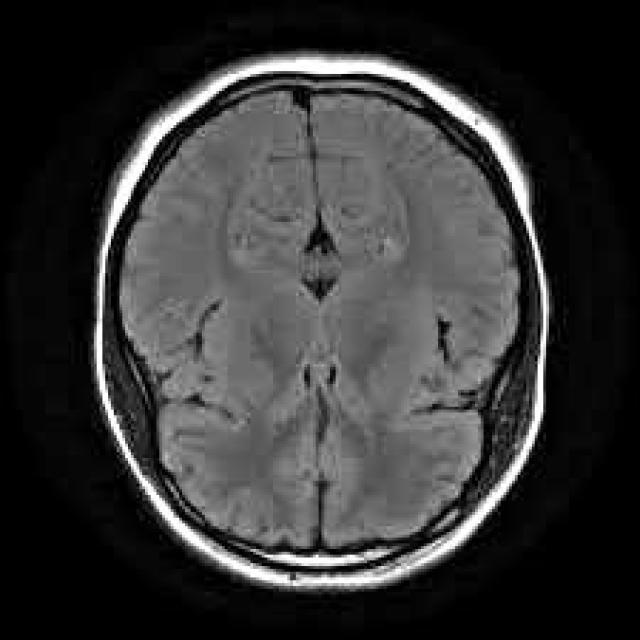notumor: (94, 60, 549, 589)
